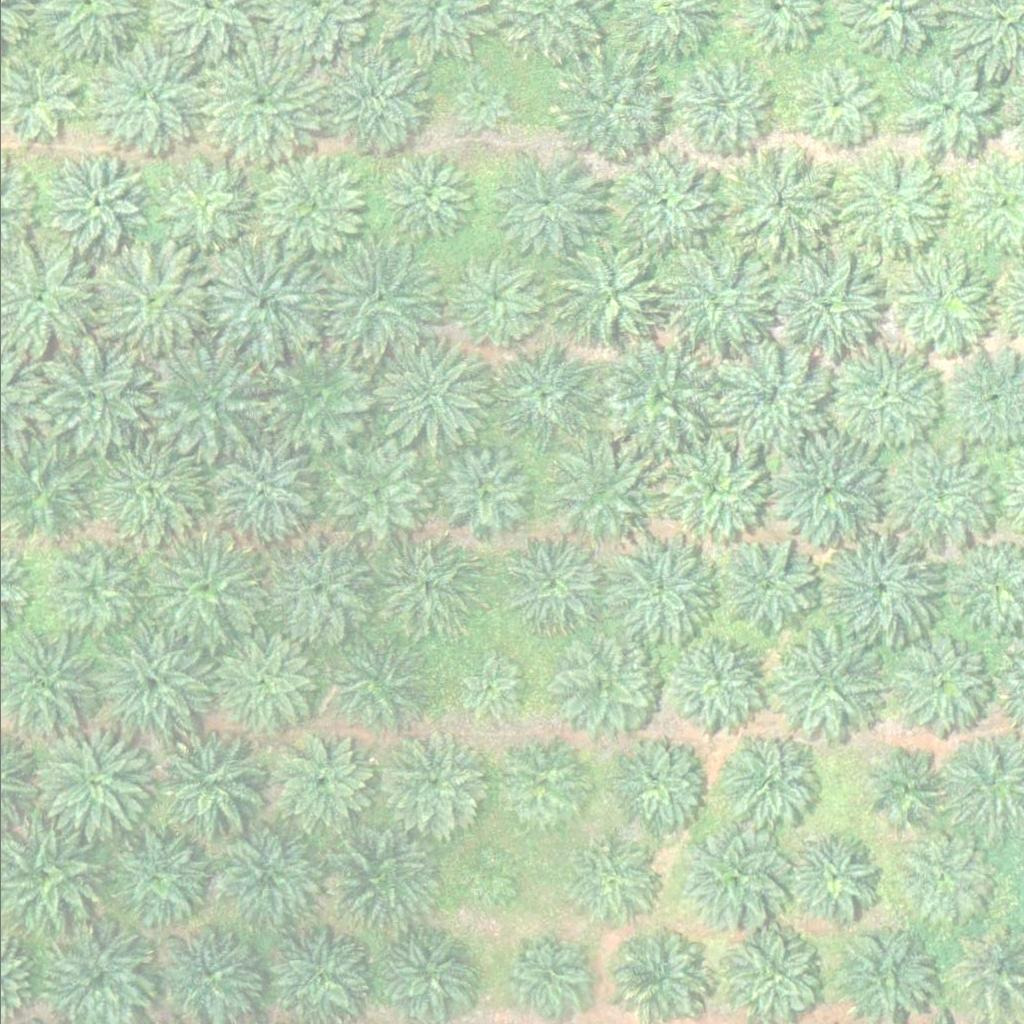Kelapa_Sawit: (677, 818, 791, 931), (263, 337, 377, 450), (327, 243, 441, 356), (483, 149, 597, 262), (153, 344, 267, 457), (831, 150, 944, 263), (722, 142, 835, 255), (884, 442, 997, 555), (774, 434, 887, 547), (599, 535, 712, 648), (653, 436, 766, 549), (654, 247, 767, 360), (555, 238, 668, 351), (206, 243, 319, 356), (603, 147, 716, 260), (93, 244, 206, 357), (34, 339, 147, 452), (155, 533, 268, 646), (95, 630, 208, 743), (34, 724, 147, 837), (883, 626, 997, 738), (202, 432, 316, 544), (548, 49, 662, 161), (94, 440, 208, 552), (767, 250, 880, 362), (824, 338, 937, 450), (712, 339, 825, 451), (831, 530, 944, 642), (766, 628, 879, 740), (330, 821, 443, 933), (208, 819, 321, 931), (258, 531, 371, 643), (542, 438, 655, 550), (602, 341, 715, 453), (490, 337, 603, 449), (378, 339, 491, 451), (251, 150, 364, 262), (317, 44, 430, 156), (204, 46, 317, 158), (86, 40, 199, 152), (154, 727, 267, 839), (101, 817, 214, 929), (898, 55, 999, 155), (892, 251, 993, 351), (714, 536, 815, 636), (560, 835, 661, 935), (611, 733, 712, 833), (492, 737, 593, 837), (384, 729, 485, 829), (273, 729, 374, 829), (666, 633, 767, 733), (554, 634, 655, 734), (328, 636, 429, 736), (212, 634, 313, 734), (505, 534, 606, 634), (372, 531, 473, 631), (428, 444, 529, 544), (325, 444, 426, 544), (158, 155, 259, 255), (47, 151, 148, 251), (670, 58, 770, 158), (716, 726, 816, 826), (893, 828, 993, 928), (781, 825, 881, 925), (447, 248, 547, 348), (378, 146, 478, 246), (43, 544, 131, 632), (792, 64, 880, 151), (502, 931, 590, 1018), (871, 749, 947, 824), (448, 647, 523, 722), (456, 844, 519, 906), (451, 73, 514, 135)
